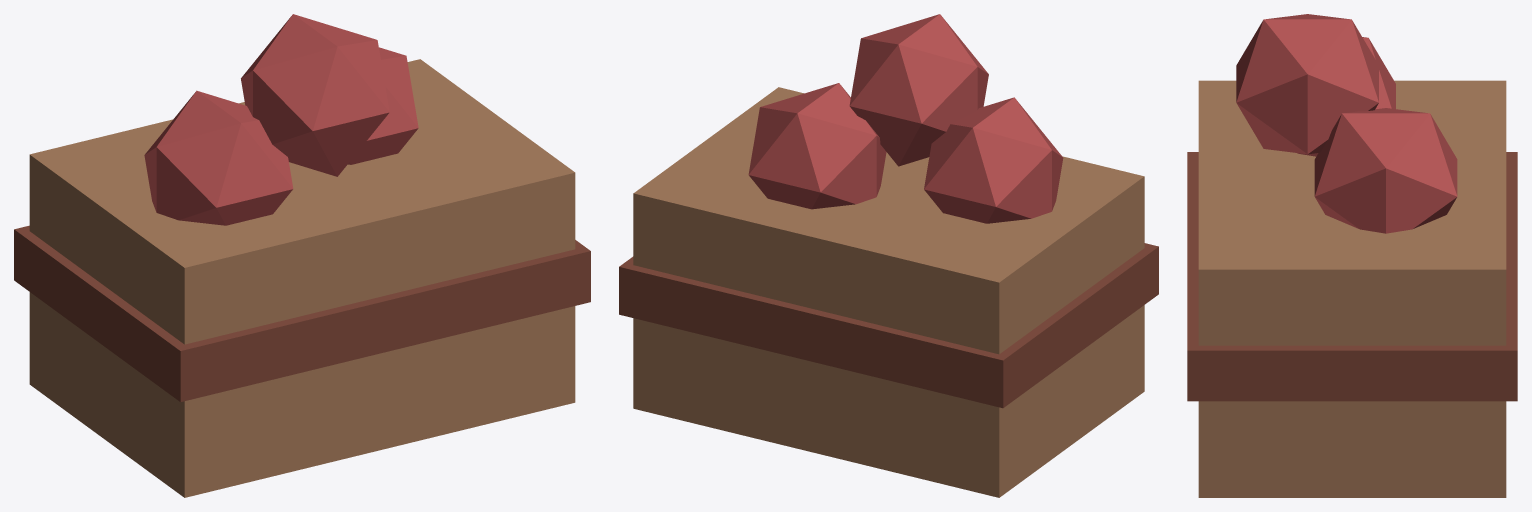
File: crate.glb
3 views of the same model, side by side, from view 1: azimuth 30°, elevation 25°; view 2: azimuth 150°, elevation 25°; view 3: azimuth 270°, elevation 25° (orthographic). The views are drawn at different scales.
Parts seen in each view (by area): view 1: Box; view 2: Box; view 3: Box.
Part boxes in pixels (left/top/right/bottom): Box: left=14, top=14, right=590, bottom=497; Box: left=619, top=14, right=1158, bottom=497; Box: left=1187, top=14, right=1517, bottom=497.
Size of the model in its own units: 0.84 by 0.7476 by 0.59.
